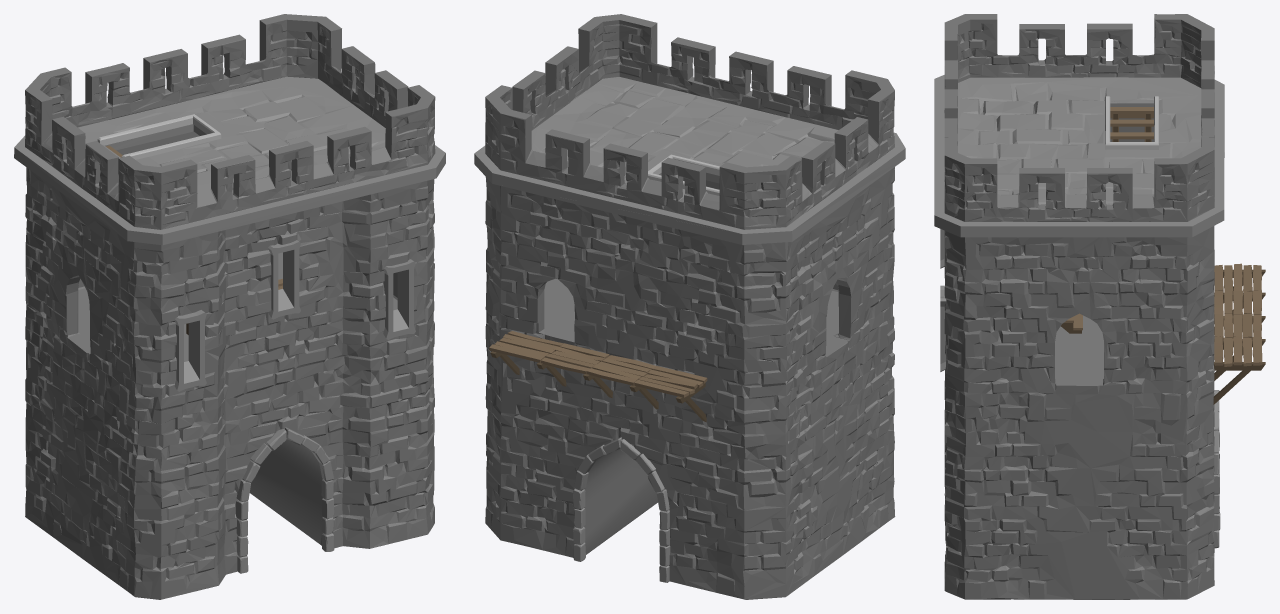
Rendered from castle_gate_house_c.FBX.
The picture shows the model from 3 angles, left to right: view 1: azimuth 30°, elevation 25°; view 2: azimuth 150°, elevation 25°; view 3: azimuth 270°, elevation 25°; orthographic projection. The views are drawn at different scales.
Visible parts, largest first — view 1: castle_gate_house_c; view 2: castle_gate_house_c; view 3: castle_gate_house_c.
Boxes of the visible parts, <box> form: castle_gate_house_c: <box>14,14,445,599</box>; castle_gate_house_c: <box>474,14,905,599</box>; castle_gate_house_c: <box>934,14,1265,599</box>.
Size of the model in its own units: 11.12 by 14.27 by 9.81.
